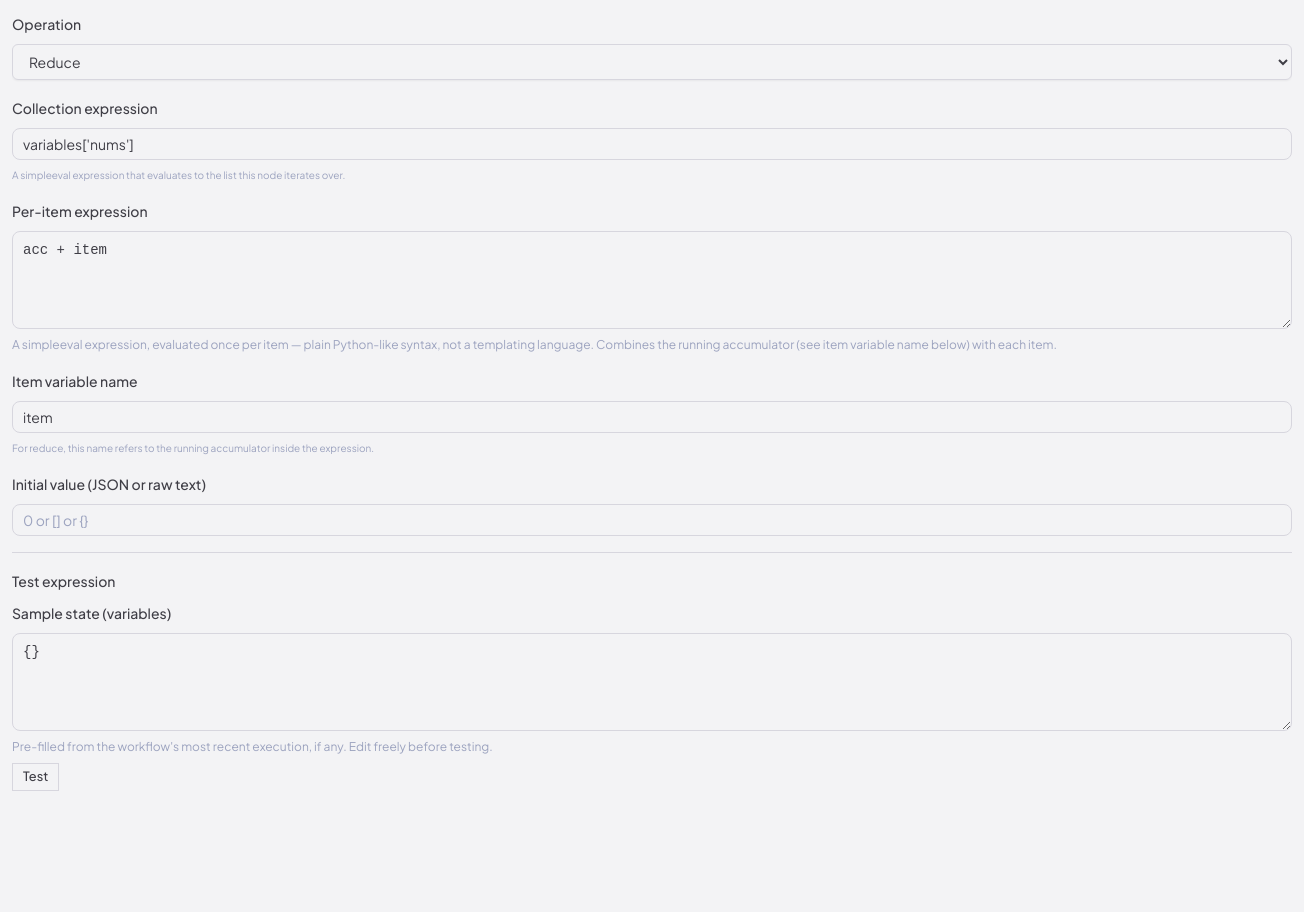
Scenario: DataTransformPanel › shows a string reduce result unquoted, not JSON-escaped
Click the button "Test". click: {"x": 36, "y": 777}
box: [12,763,59,791]
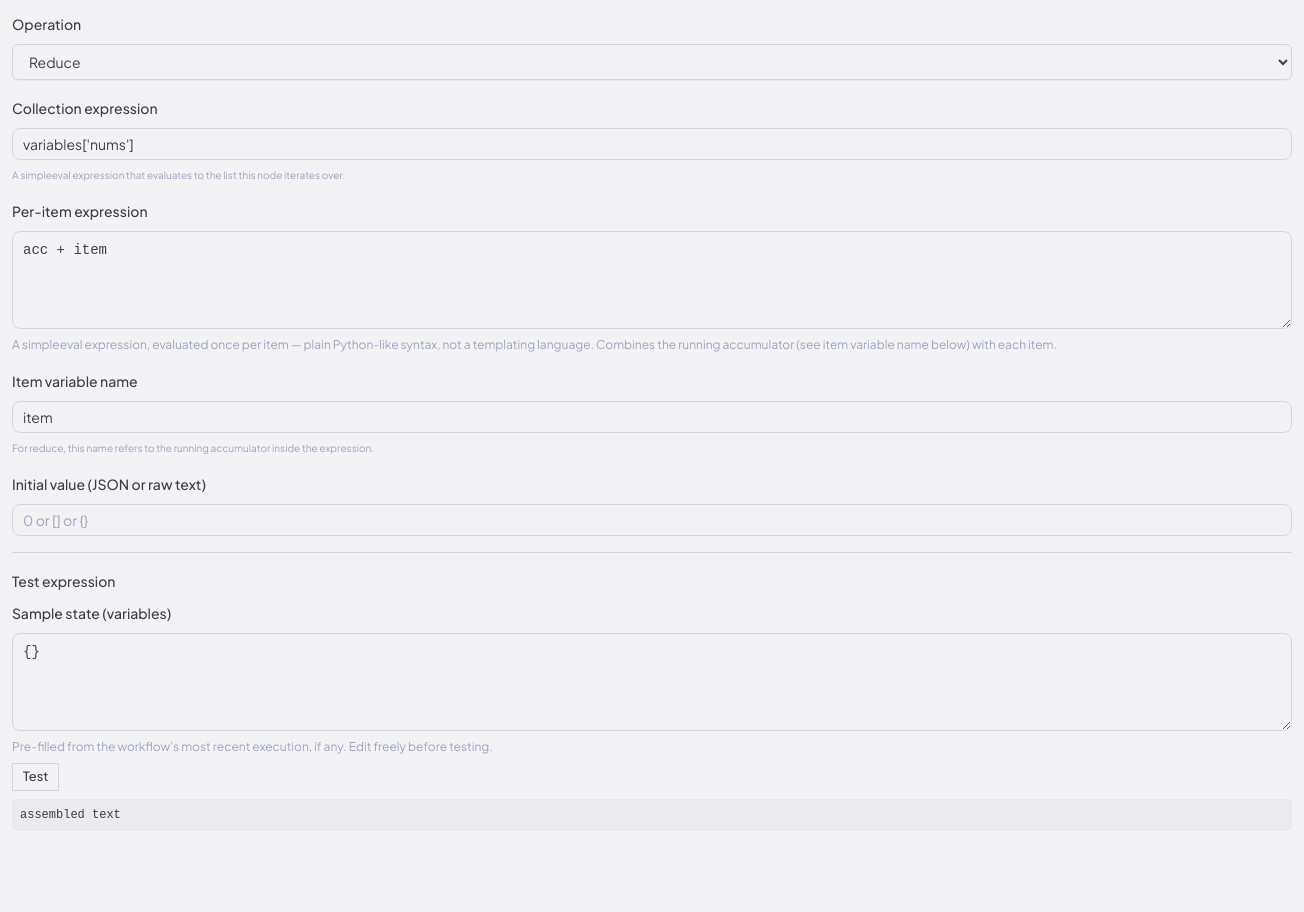
Result: the text "assembled text" is shown at [12,799,1292,831]
